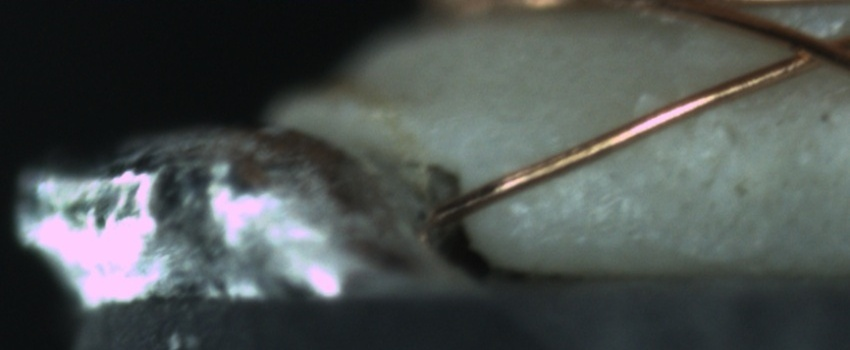CL: (769, 20, 846, 76)
